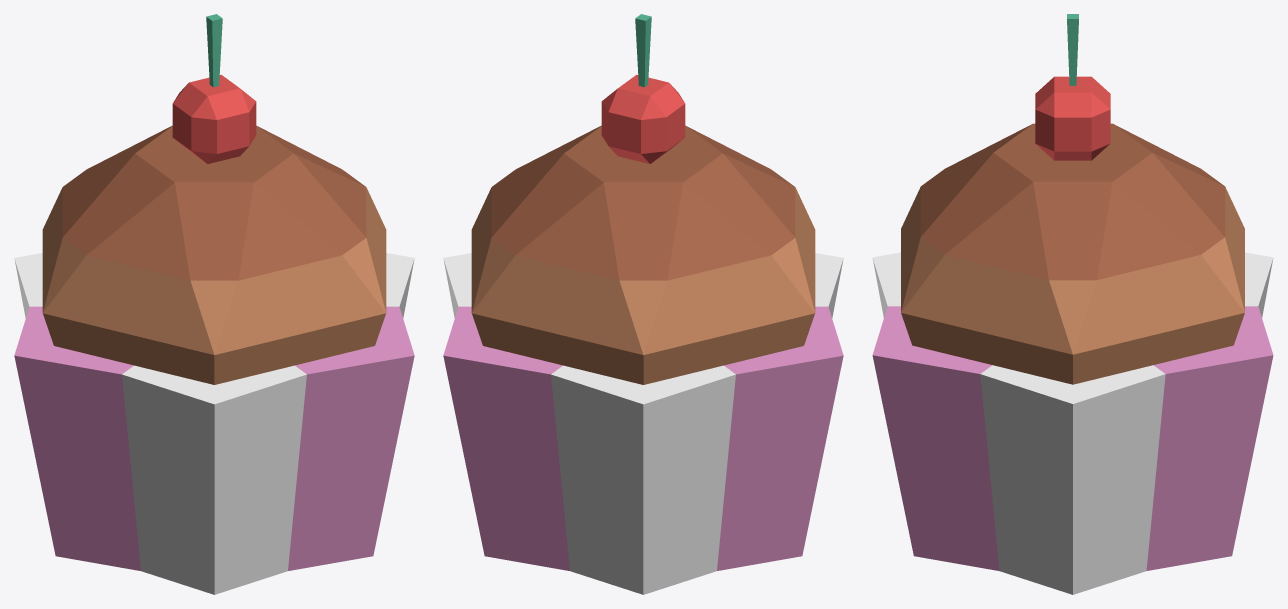
Rendered from cupcake.glb.
3 renders of one model, left to right at view 1: azimuth 30°, elevation 25°; view 2: azimuth 150°, elevation 25°; view 3: azimuth 270°, elevation 25°, orthographic.
Visible parts, largest first — view 1: cupcake; view 2: cupcake; view 3: cupcake.
Part boxes in pixels (<box>): cupcake: <box>14,14,414,594</box>; cupcake: <box>443,14,843,594</box>; cupcake: <box>872,14,1273,594</box>.
Bounding box in the file's own units: 0.0852 × 0.1017 × 0.0738.
